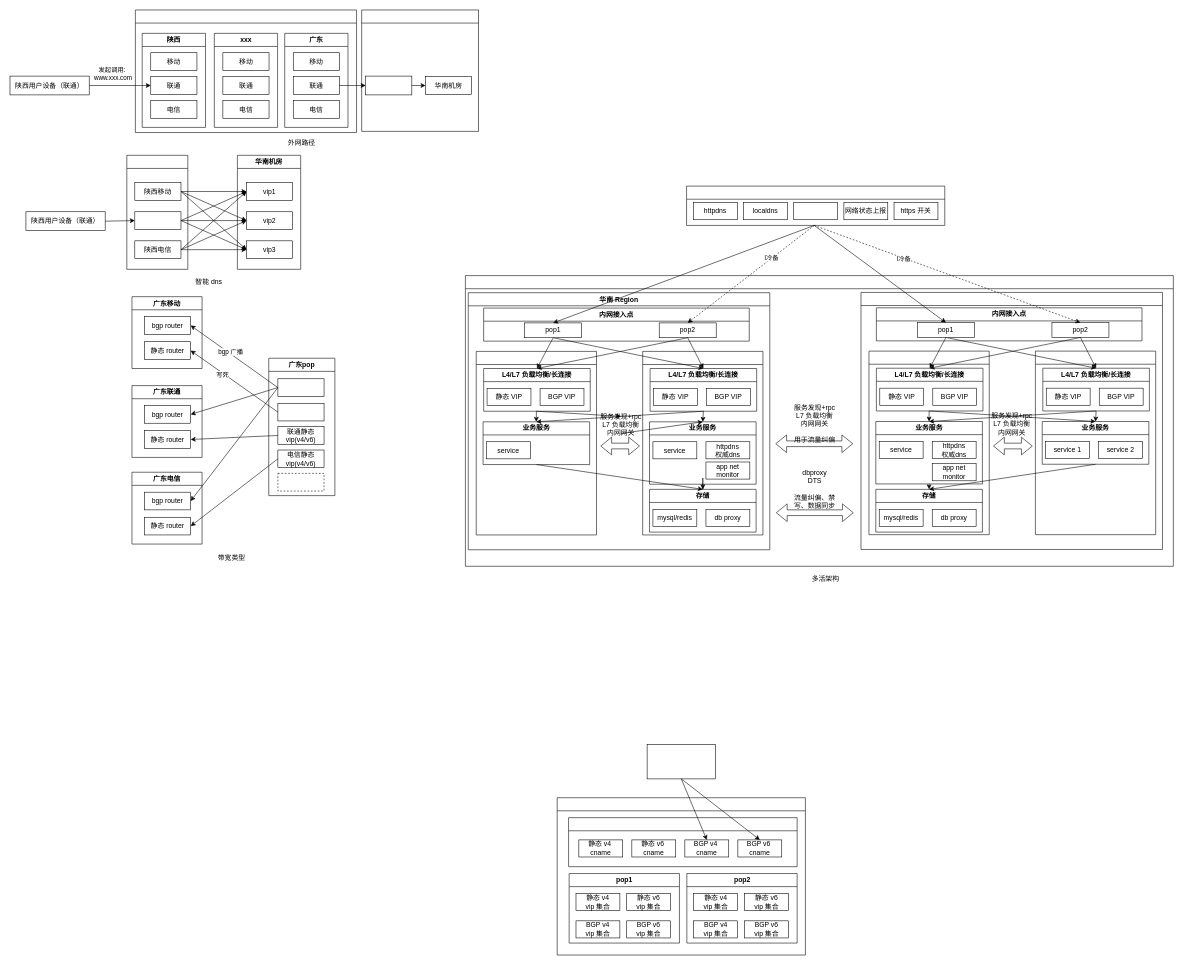
This 1183x965 diagram has some shape labels left out. The box of each missing label's shape, as (x1, y1, x2, y2) in pixels:
APP 网络库: (686, 186, 945, 225)
bgp vip(v4/v6): (277, 378, 324, 396)
cname 域名: (568, 817, 797, 867)
DNS 系统: (126, 155, 188, 269)
localcache: (793, 202, 838, 220)
业务域名 www.xxx.com: (647, 744, 716, 779)
内网: (465, 275, 1173, 566)
华北 Region: (860, 292, 1163, 549)
华北机房 1（中心）: (868, 351, 989, 535)
华北机房 2（核心）: (1035, 351, 1156, 535)
华南内网: (361, 9, 479, 131)
华南机房 1（卫星）: (476, 351, 597, 535)
华南机房 2（中心）: (642, 351, 763, 535)
华南机房2 L4/L7 负载均衡: (557, 797, 805, 955)
广东 pop: (365, 76, 412, 95)
电信代播 vip(v4/v6): (277, 473, 324, 491)
移动静态 vip(v4/v6): (277, 403, 324, 421)
运营商网络（均 BGP 连接）: (135, 9, 357, 133)
陕西联通: (134, 211, 181, 229)
